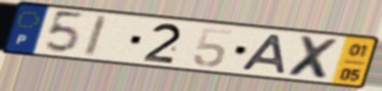2: (142, 22, 183, 65)
5: (41, 8, 91, 56), (191, 25, 236, 68)
A: (237, 32, 288, 75)
I: (81, 13, 111, 59)
X: (284, 33, 343, 82)
